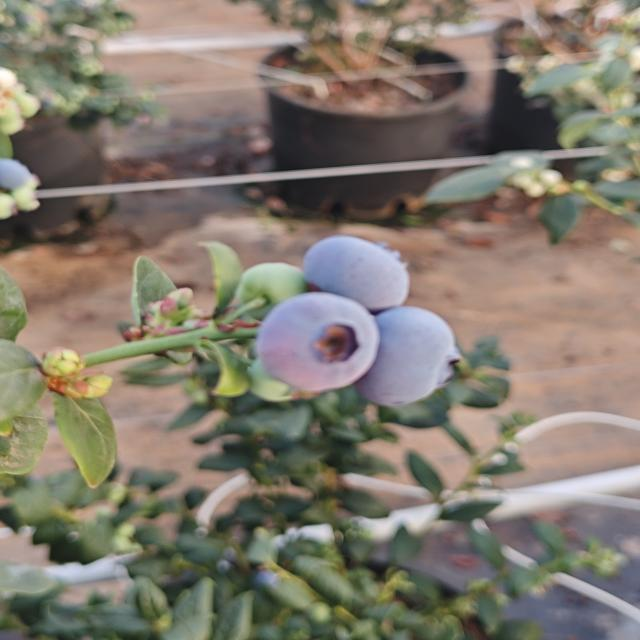ripe: (253, 290, 382, 394), (373, 302, 474, 403), (301, 234, 412, 312), (0, 151, 56, 203)
